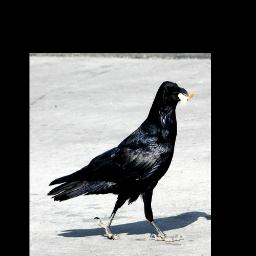Crow: (46, 80, 193, 244)
